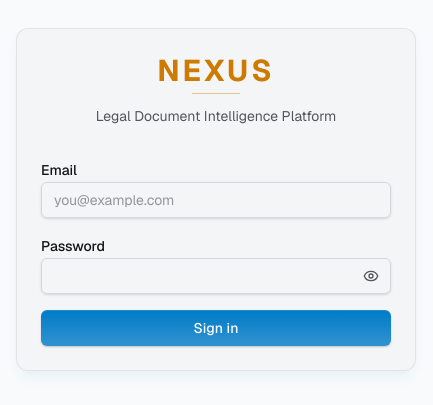
Test: LoginPage › shows validation error for empty password
Type "test@example.com" into the field labelled "Email" at (216, 200), box [41,182,391,218]
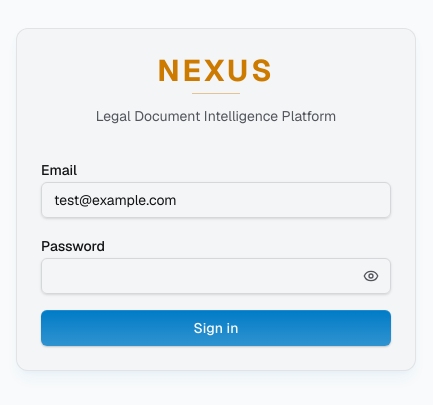
Submit the form "Sign in", box [41,158,391,346]
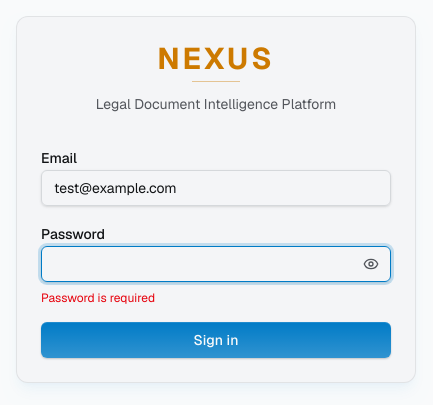
Expected: the text "Password is required" is shown, [41,290,155,306]
